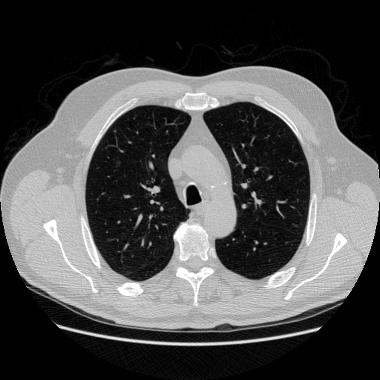nodule: (115, 160, 121, 166)
